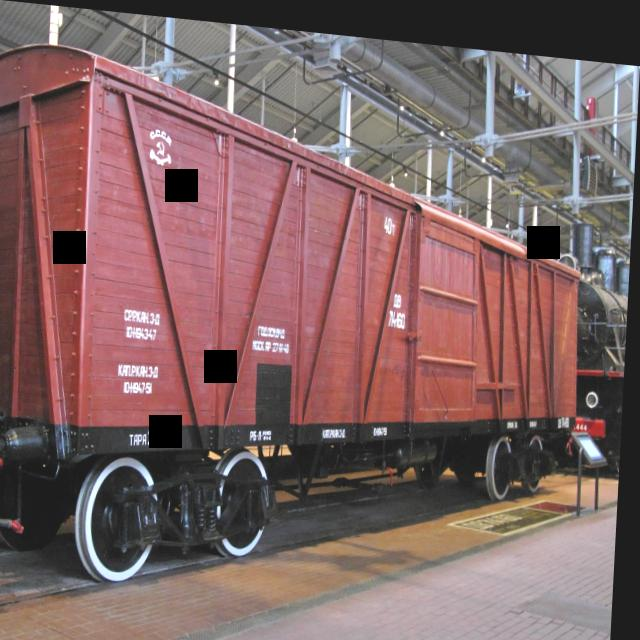boxcar: (0, 30, 598, 623)
